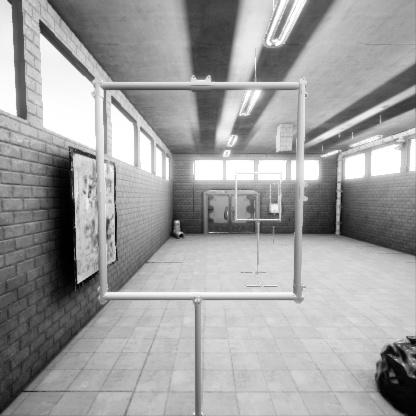gate: (106, 133, 309, 331), (236, 197, 284, 245), (269, 205, 279, 234)
